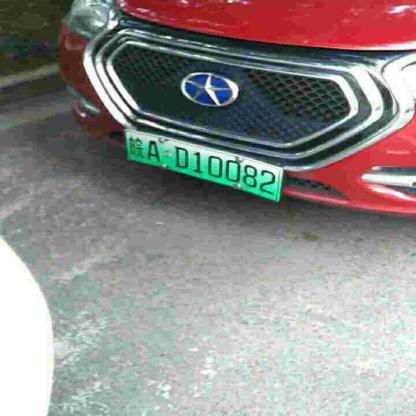lp: (125, 130, 280, 202)
